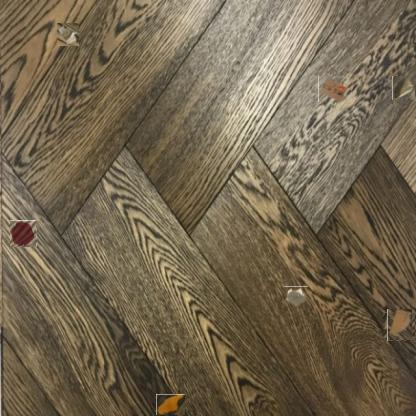dirty: (385, 311, 414, 340), (318, 76, 347, 102), (392, 76, 415, 100), (57, 23, 79, 46), (284, 286, 308, 307)
liquid: (10, 221, 37, 247), (156, 394, 185, 415)
